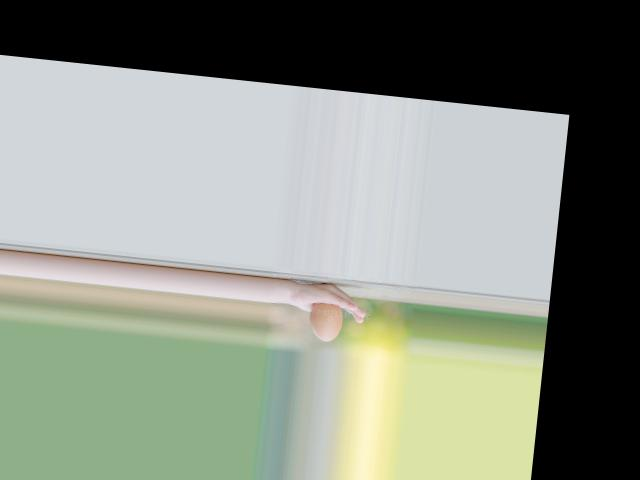egg: (306, 301, 343, 342)
